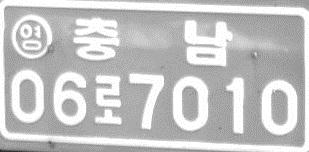0: (171, 74, 209, 132), (260, 78, 298, 136), (10, 68, 44, 125)
1: (216, 75, 256, 134)
6: (50, 70, 87, 127)
7: (128, 72, 164, 131)
로: (93, 74, 124, 126)
영: (9, 12, 52, 59)
충남_D: (72, 16, 232, 67)
